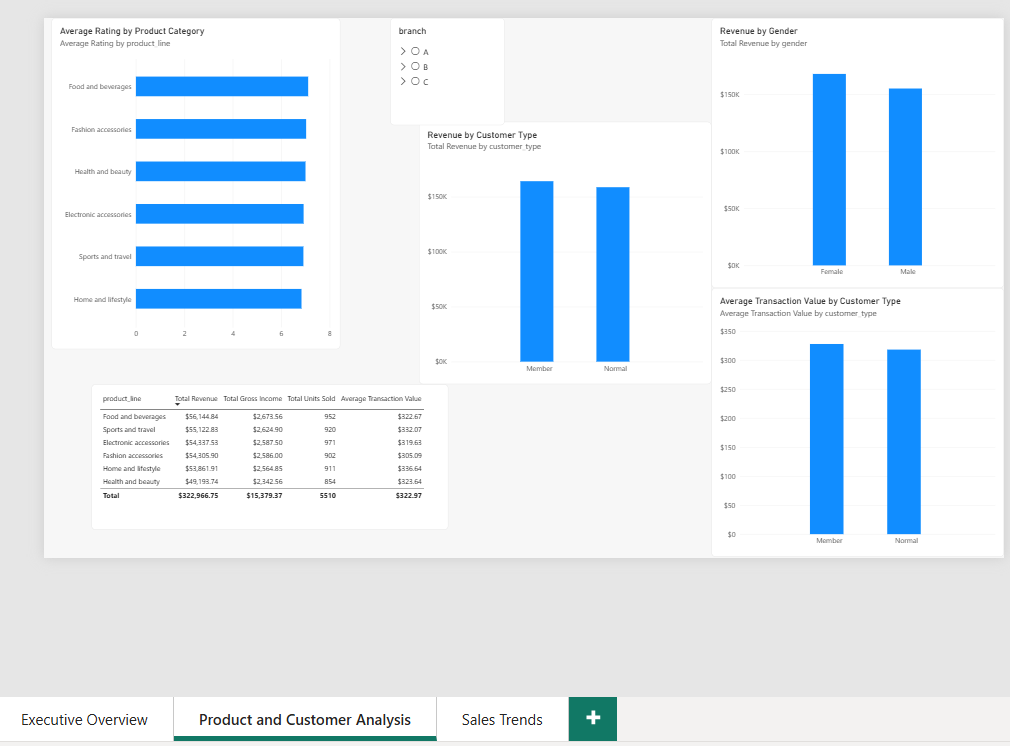

The dashboard page shown, as its layout file describes it:
{"tool":"powerbi","page":{"name":"Product and Customer Analysis","canvas":[1920,1080],"ordinal":1},"visuals":[{"type":"tableEx","fields":{"Values":["sales.product_line","sales.Total Revenue","sales.Total Gross Income","sales.Total Units Sold","sales.Average Transaction Value"]},"box":[95.9,732.6,713.4,291.3],"z":0},{"type":"clusteredColumnChart","title":"Revenue by Customer Type","fields":{"Category":["sales.customer_type"],"Y":["sales.Total Revenue"]},"box":[750,207.5,585,525],"z":1},{"type":"columnChart","title":"Average Transaction Value by Customer Type","fields":{"Category":["sales.customer_type"],"Y":["sales.Average Transaction Value"]},"box":[1335,540,585,537.5],"z":2},{"type":"clusteredColumnChart","title":"Revenue by Gender","fields":{"Category":["sales.gender"],"Y":["sales.Total Revenue"]},"box":[1335,0,585,540],"z":3},{"type":"barChart","title":"Average Rating by Product Category","fields":{"Category":["sales.product_line"],"Y":["sales.Average Rating"]},"box":[15,0,577.5,662.5],"z":4},{"type":"listSlicer","fields":{"Values":["sales.branch","sales.customer_type"]},"box":[692.5,0,228.5,214.5],"z":5}]}

Visuals, with their boxes on the page's 1920x1080 design canvas (x1, y1, x2, y2). These are canvas units, not pixel positions in the 1010x746 screenshot, which may show the page scaled, cropped or inside an application window:
tableEx - sales.product_line x sales.Total Revenue: l=96, t=733, r=809, b=1024
"Revenue by Customer Type" clusteredColumnChart: l=750, t=208, r=1335, b=732
"Average Transaction Value by Customer Type" columnChart: l=1335, t=540, r=1920, b=1078
"Revenue by Gender" clusteredColumnChart: l=1335, t=0, r=1920, b=540
"Average Rating by Product Category" barChart: l=15, t=0, r=592, b=662
listSlicer - sales.branch x sales.customer_type: l=692, t=0, r=921, b=214
